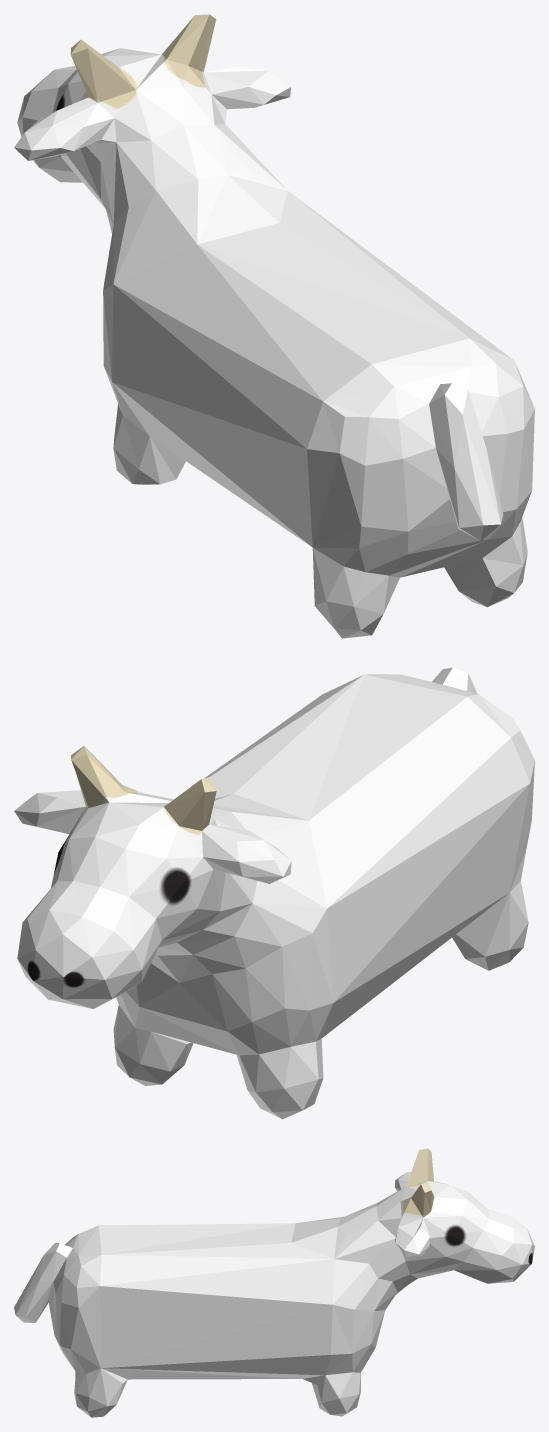
File: animal_bull_blob.obj
The picture shows the model from 3 angles, top to bottom: view 1: azimuth 30°, elevation 25°; view 2: azimuth 150°, elevation 25°; view 3: azimuth 270°, elevation 25°; orthographic projection. The views are drawn at different scales.
Visible parts, largest first — view 1: animal_bull_blob; view 2: animal_bull_blob; view 3: animal_bull_blob.
Boxes of the visible parts, x1,y1,x2,y2 form: animal_bull_blob: (14, 14, 534, 638); animal_bull_blob: (14, 667, 534, 1119); animal_bull_blob: (14, 1148, 534, 1417).
Size of the model in its own units: 0.7608 by 1.06 by 2.16.
